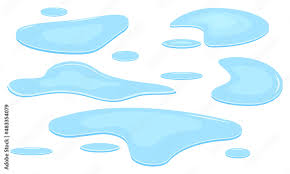Wet-floor: (8, 63, 260, 166), (45, 105, 258, 168), (166, 0, 276, 54), (21, 12, 138, 61), (213, 56, 287, 110), (158, 66, 204, 86), (32, 4, 76, 17)
